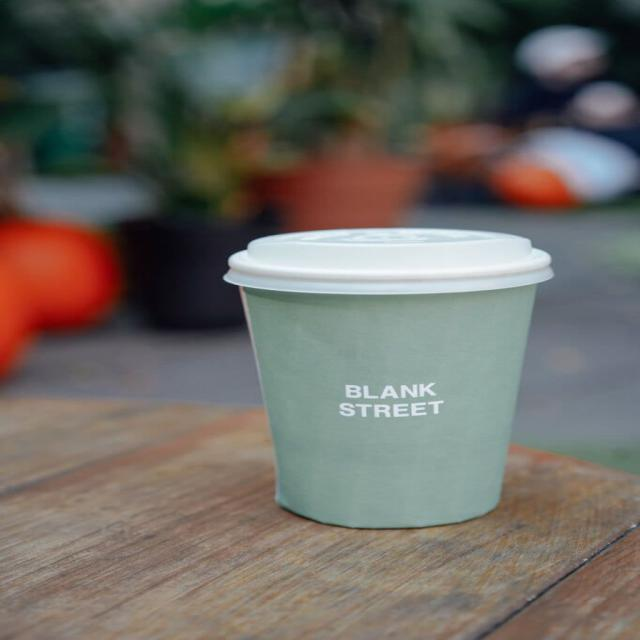paper cup: (224, 228, 556, 530)
